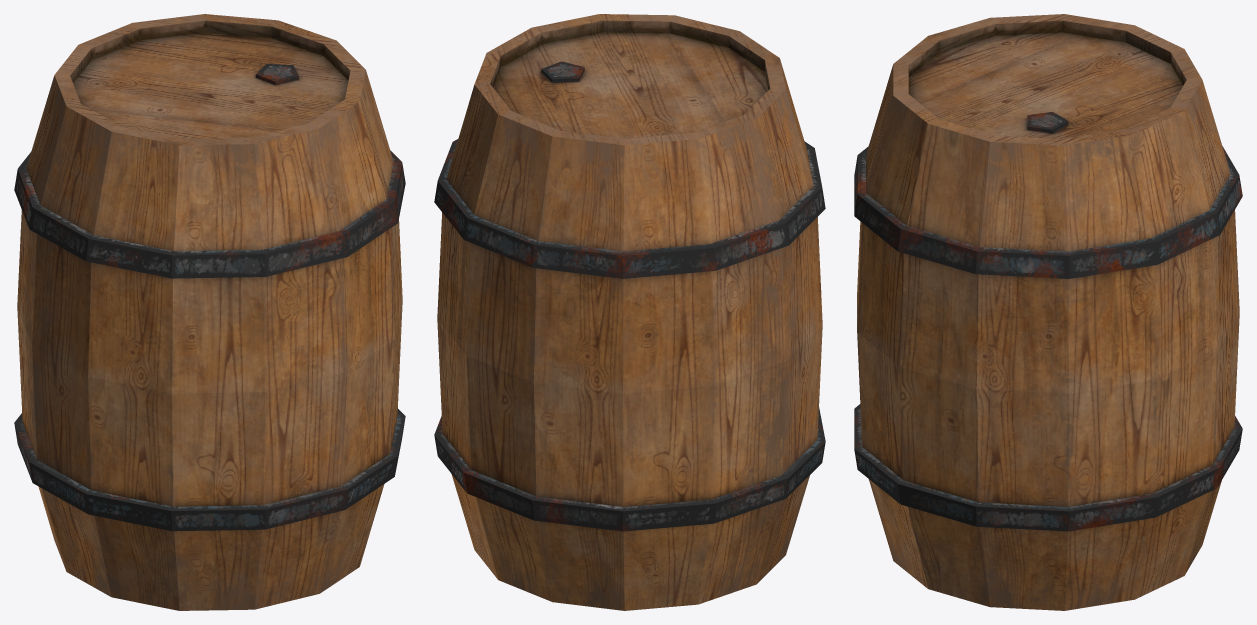
File: Barrel.fbx
The picture shows the model from 3 angles, left to right: view 1: azimuth 30°, elevation 25°; view 2: azimuth 150°, elevation 25°; view 3: azimuth 270°, elevation 25°; orthographic projection.
Visible parts, largest first — view 1: Barrel; view 2: Barrel; view 3: Barrel.
Boxes of the visible parts, left/top/right/bottom form: Barrel: left=14, top=14, right=405, bottom=610; Barrel: left=434, top=14, right=825, bottom=610; Barrel: left=854, top=14, right=1242, bottom=610.
Size of the model in its own units: 52.92 by 69.41 by 52.53.
